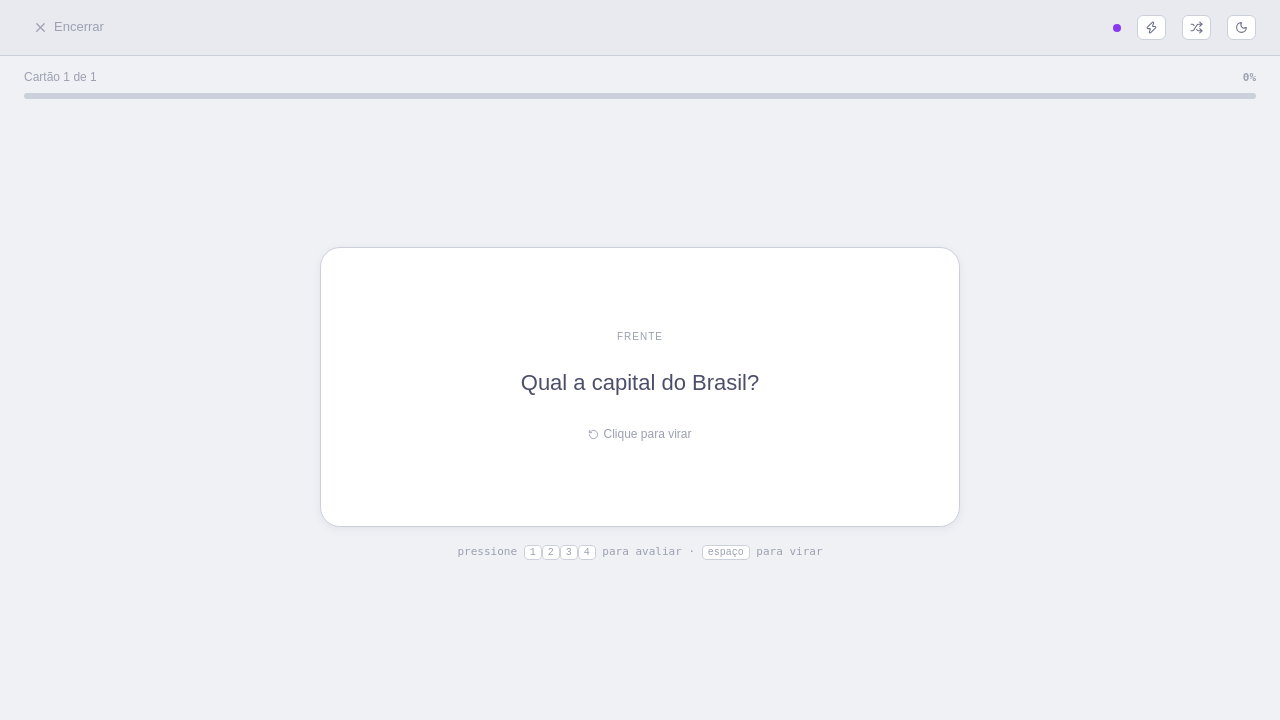
it: ReviewPage › mostra mensagem de erro quando review falha
This screenshot has width=1280, height=720.
Expected: the text "FRENTE" is shown, [617, 329, 663, 345]
Click the text "Clique para virar".
click(640, 434)  # box [588, 425, 692, 444]
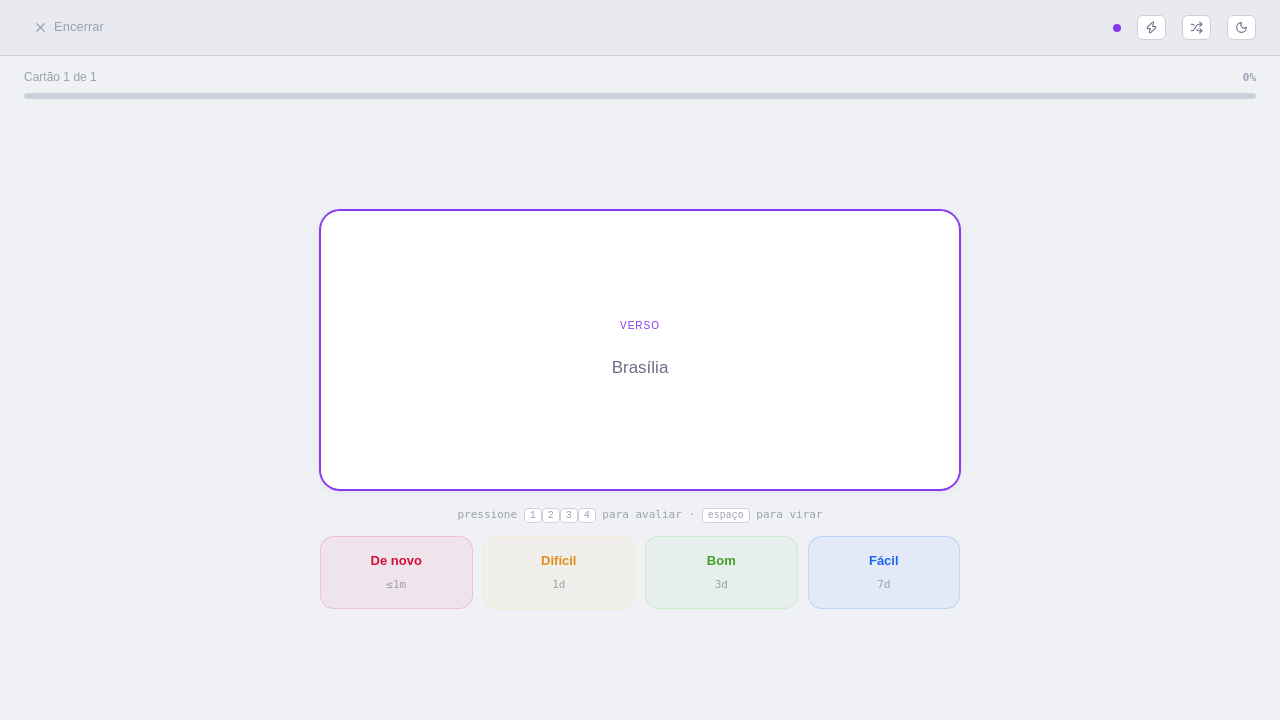
Expected: the text "VERSO" is shown, [620, 319, 660, 335]
Click the text "Bom".
click(721, 562)  # box [707, 551, 736, 572]
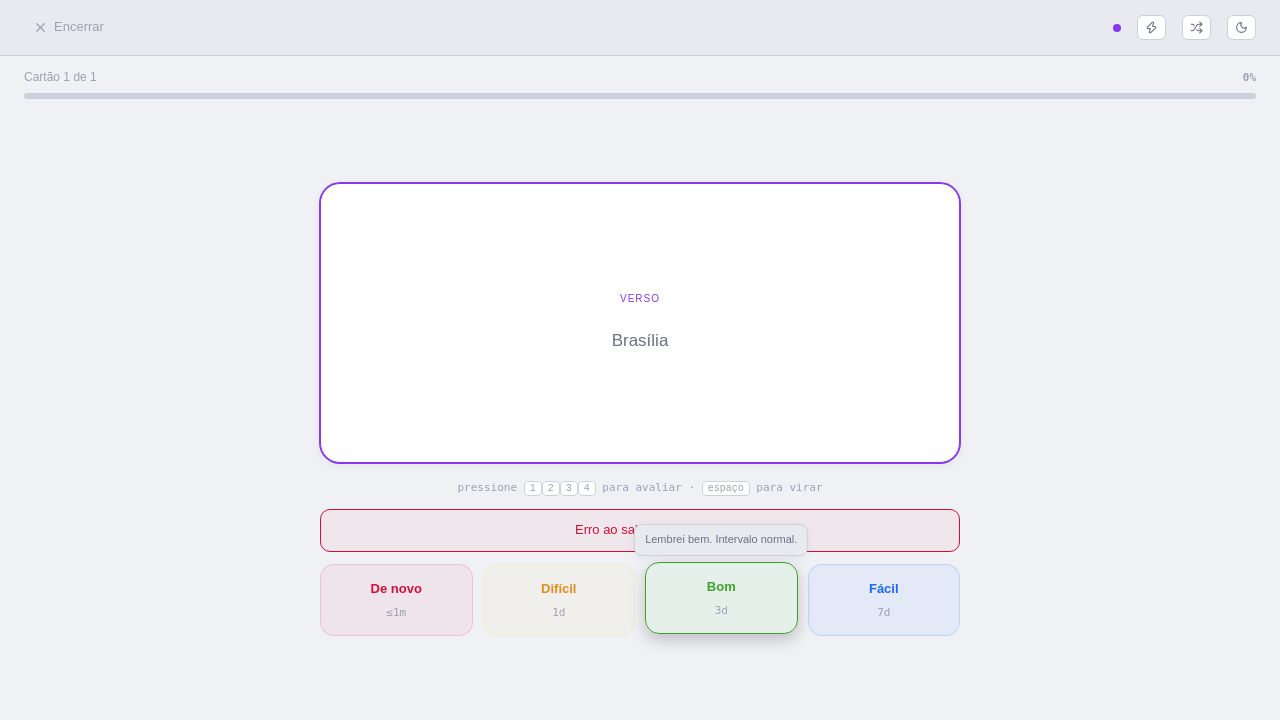
Result: the text "Erro ao salvar revisão." is shown at [320, 509, 960, 552]
